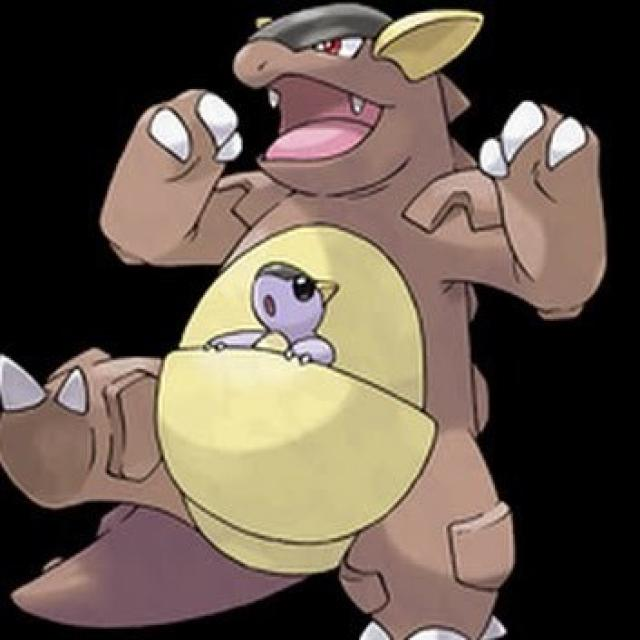Kangaskhan: (48, 8, 616, 589)
